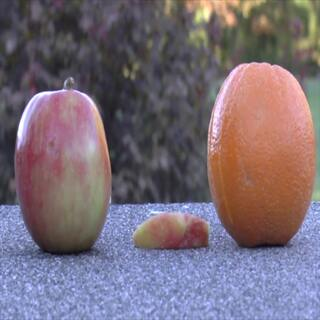apple: (12, 84, 197, 268)
orange: (209, 59, 320, 255)
